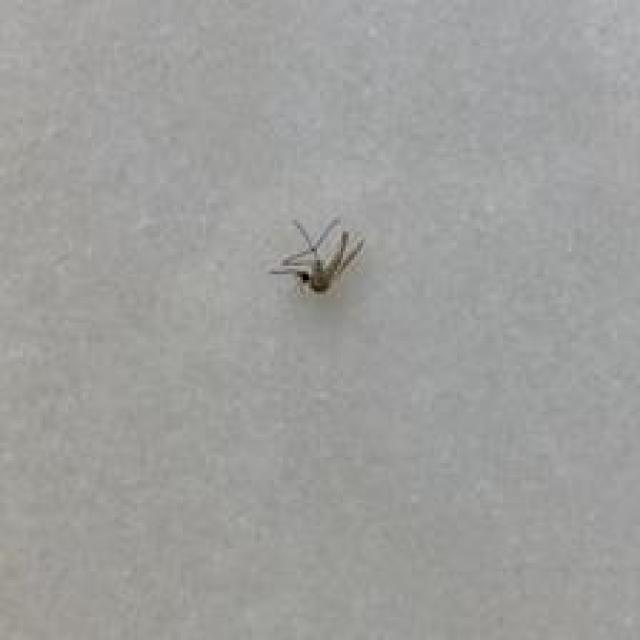Culex: (267, 214, 364, 297)
